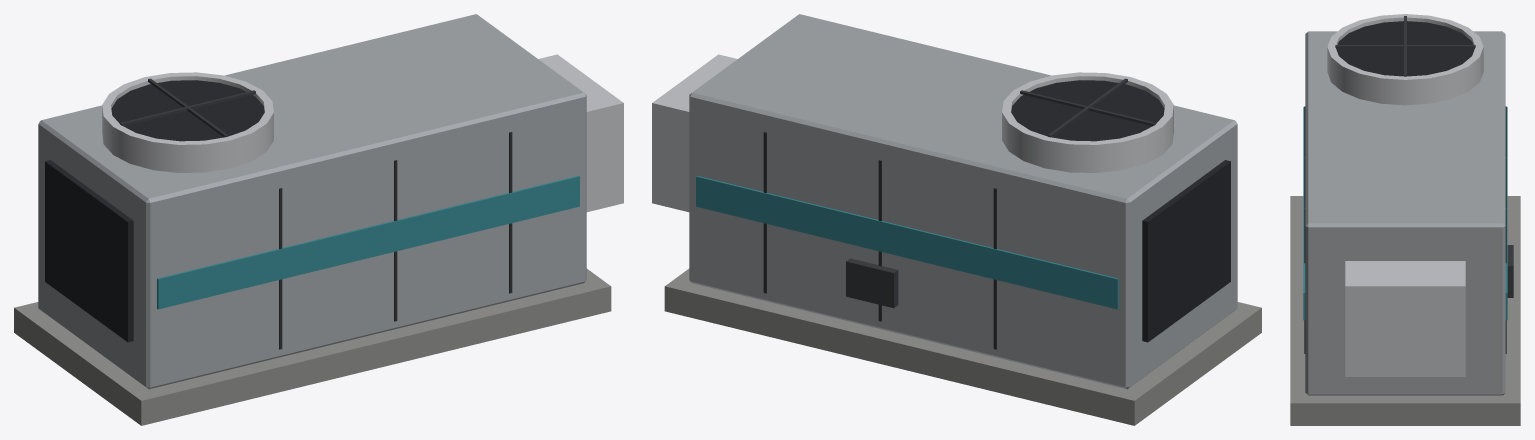
Rendered from ahu.glb.
3 views of the same model, side by side, from view 1: azimuth 30°, elevation 25°; view 2: azimuth 150°, elevation 25°; view 3: azimuth 270°, elevation 25° (orthographic). The views are drawn at different scales.
Parts seen in each view (by area): view 1: Body_LOD0; view 2: Body_LOD0; view 3: Body_LOD0.
Boxes of the visible parts, x1,y1,x2,y2 form: Body_LOD0: (14, 14, 623, 425); Body_LOD0: (652, 14, 1261, 425); Body_LOD0: (1290, 14, 1520, 425).
Bounding box in the file's own units: 5.35 × 2.44 × 2.3.
